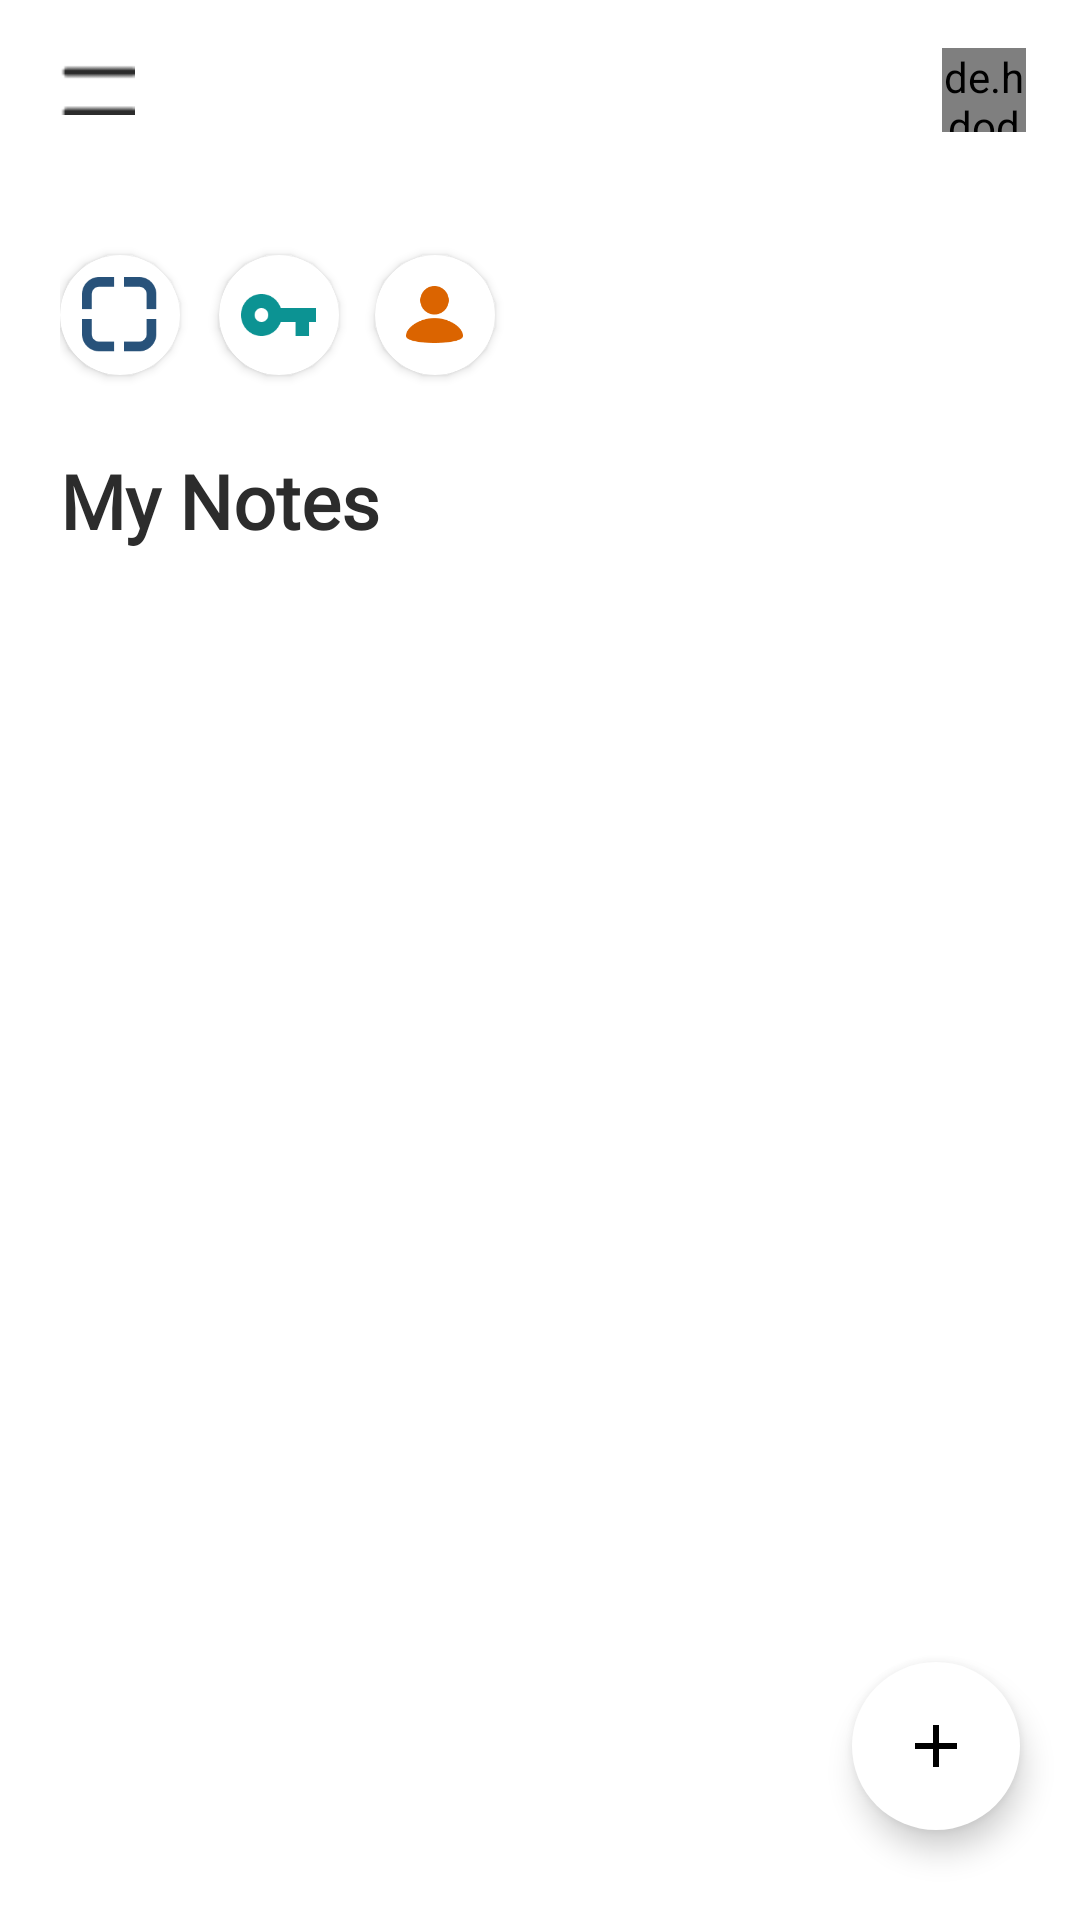

Locate icon controls on the screen. Image size 1080px x 1920px, boxes as (x1, y1, x2, y2).
drawer: (62, 66, 135, 115)
key: (241, 294, 316, 336)
scan: (82, 277, 157, 352)
user: (406, 286, 463, 343)
